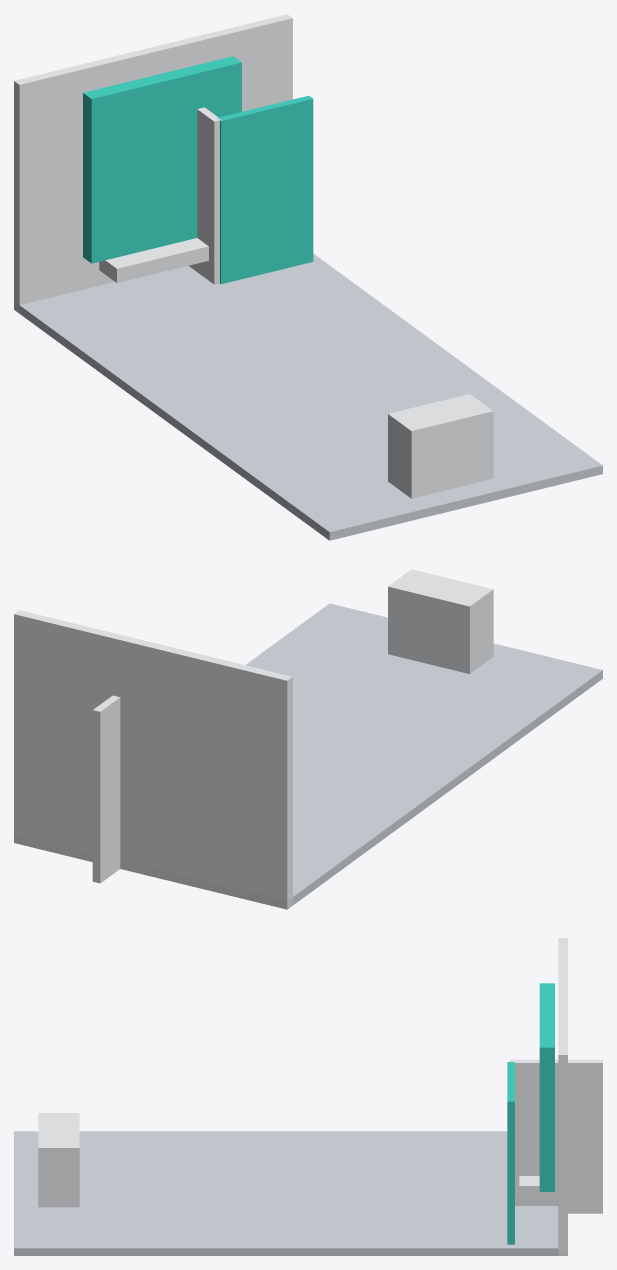
The picture shows the model from 3 angles, top to bottom: view 1: azimuth 30°, elevation 25°; view 2: azimuth 150°, elevation 25°; view 3: azimuth 270°, elevation 25°; orthographic projection. The views are drawn at different scales.
Visible parts, largest first — view 1: Exhibition Booth Concept; view 2: Exhibition Booth Concept; view 3: Exhibition Booth Concept.
Boxes of the visible parts, <box> form: Exhibition Booth Concept: <box>14,14,602,540</box>; Exhibition Booth Concept: <box>14,569,602,909</box>; Exhibition Booth Concept: <box>14,938,602,1255</box>.
Size of the model in its own units: 4 by 3.2 by 8.51.
